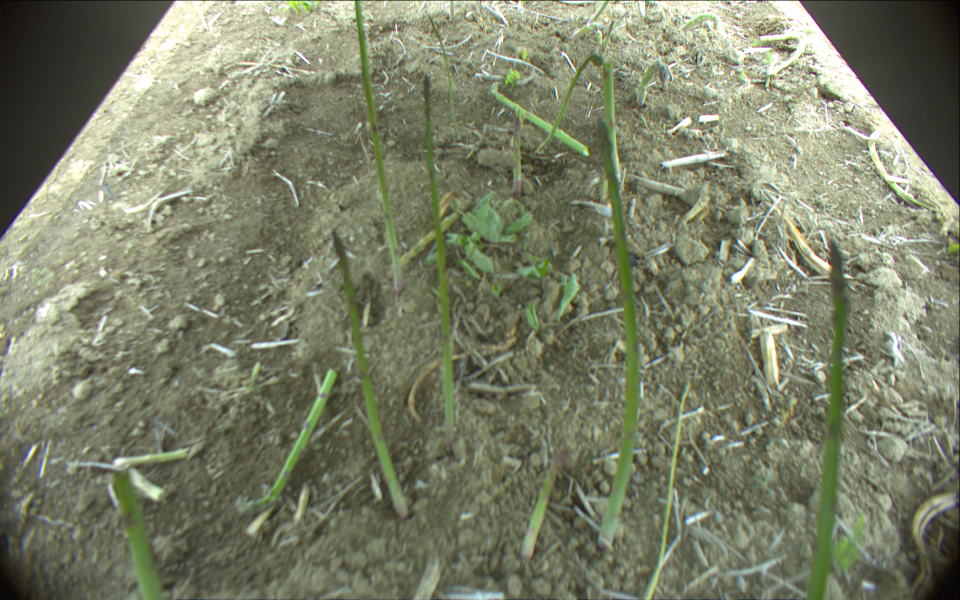aspa: (333, 231, 414, 515), (587, 118, 637, 550), (236, 369, 335, 535), (349, 1, 404, 292), (801, 240, 845, 600), (423, 76, 458, 438), (639, 385, 689, 600), (110, 466, 161, 600), (538, 52, 604, 153), (518, 445, 569, 555), (393, 202, 470, 268), (427, 13, 457, 123), (634, 59, 672, 113), (108, 449, 194, 468), (512, 104, 527, 200), (680, 9, 724, 29)
